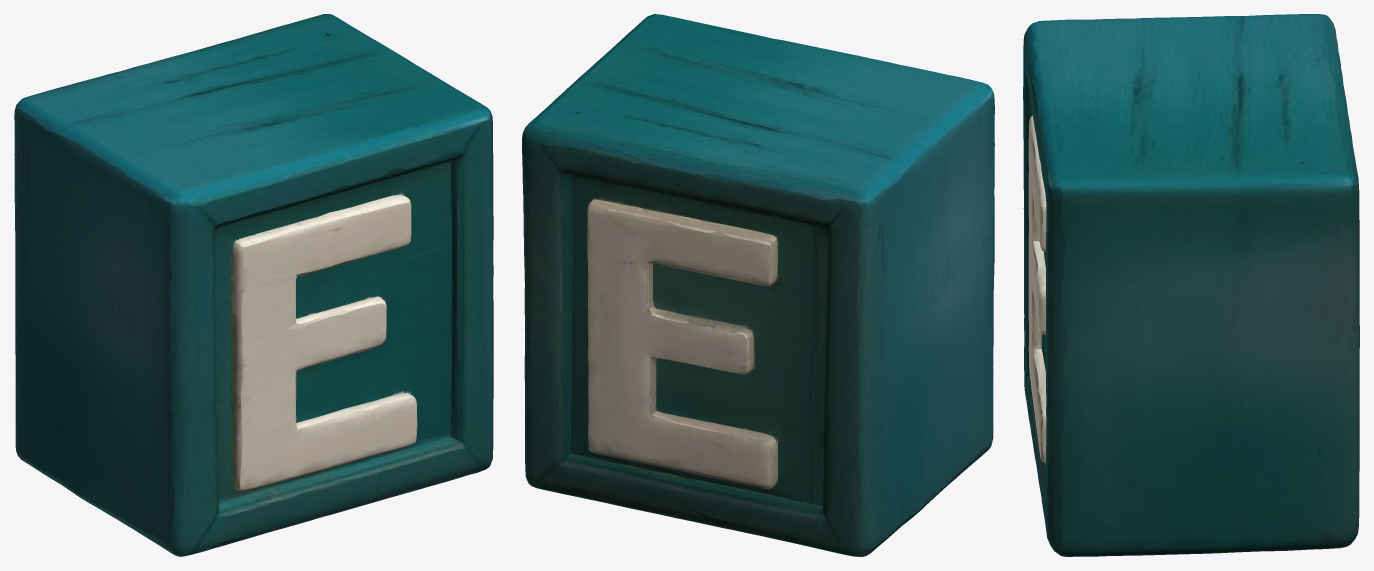
Rendered from teal-wooden-letter-cube-5ed73b08.glb.
3 views of the same model, side by side, from view 1: azimuth 30°, elevation 25°; view 2: azimuth 150°, elevation 25°; view 3: azimuth 270°, elevation 25° (orthographic). The views are drawn at different scales.
Parts seen in each view (by area): view 1: geometry_0; view 2: geometry_0; view 3: geometry_0.
Part boxes in pixels (x1,y1,x2,y2): geometry_0: (14,14,493,556); geometry_0: (522,14,994,556); geometry_0: (1023,14,1359,556).
Bounding box in the file's own units: 1 × 0.9958 × 0.8008.
Materials: 1 (1 with a texture image).
